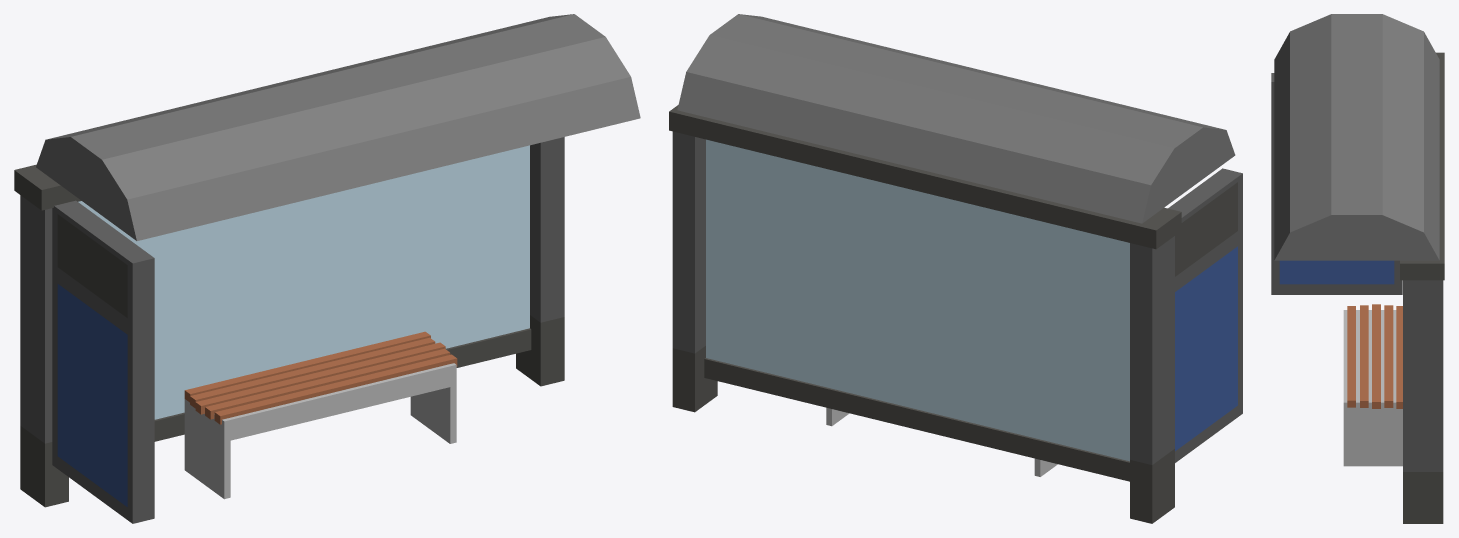
File: Bus_Stop.fbx
The picture shows the model from 3 angles, left to right: view 1: azimuth 30°, elevation 25°; view 2: azimuth 150°, elevation 25°; view 3: azimuth 270°, elevation 25°; orthographic projection. The views are drawn at different scales.
Visible parts, largest first — view 1: Bus_Stop; view 2: Bus_Stop; view 3: Bus_Stop.
Part boxes in pixels (x1,y1,x2,y2): Bus_Stop: (14, 14, 640, 523); Bus_Stop: (669, 14, 1242, 523); Bus_Stop: (1271, 14, 1444, 523).
Size of the model in its own units: 5.41 by 3.69 by 1.89.
Materials: 1 (1 with a texture image).
